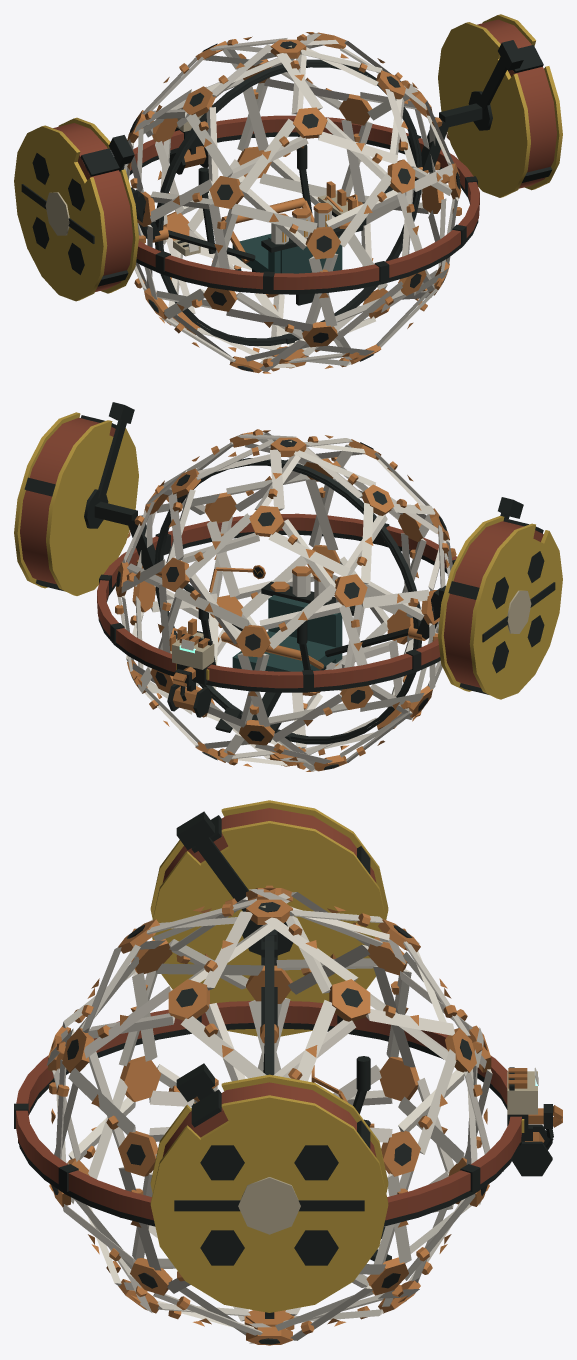
Rendered from shell_tally_abacus.glb.
3 views of the same model, one above another, from view 1: azimuth 30°, elevation 25°; view 2: azimuth 150°, elevation 25°; view 3: azimuth 270°, elevation 25° (orthographic). The views are drawn at different scales.
Visible parts, largest first — view 1: Core, Flywheel.R, WeaponRing, Pod, DrumBrackets, GyroInner, Gyro; view 2: Core, Flywheel.R, WeaponRing, Pod, DrumBrackets, Gyro, GyroInner; view 3: Core, Flywheel.R, WeaponRing, DrumBrackets, Gyro, Pod.
Part boxes in pixels (box(x1,y1,x2,y2)): Core: box(124, 32, 461, 373); Flywheel.R: box(14, 14, 562, 301); WeaponRing: box(121, 99, 479, 294); Pod: box(152, 144, 428, 305); DrumBrackets: box(109, 40, 523, 239); GyroInner: box(160, 64, 419, 344); Gyro: box(155, 59, 422, 345); Core: box(115, 429, 456, 771); Flywheel.R: box(14, 412, 562, 699); WeaponRing: box(97, 513, 456, 717); Pod: box(155, 565, 425, 742); DrumBrackets: box(84, 402, 523, 639); Gyro: box(154, 458, 421, 744); GyroInner: box(157, 459, 416, 741); Core: box(46, 885, 492, 1345); Flywheel.R: box(150, 800, 388, 1312); WeaponRing: box(14, 1001, 562, 1226); DrumBrackets: box(176, 811, 292, 1101); Gyro: box(265, 935, 274, 1318); Pod: box(193, 1024, 391, 1261).
Bounding box in the file's own units: 3.01 × 1.97 × 2.33.
